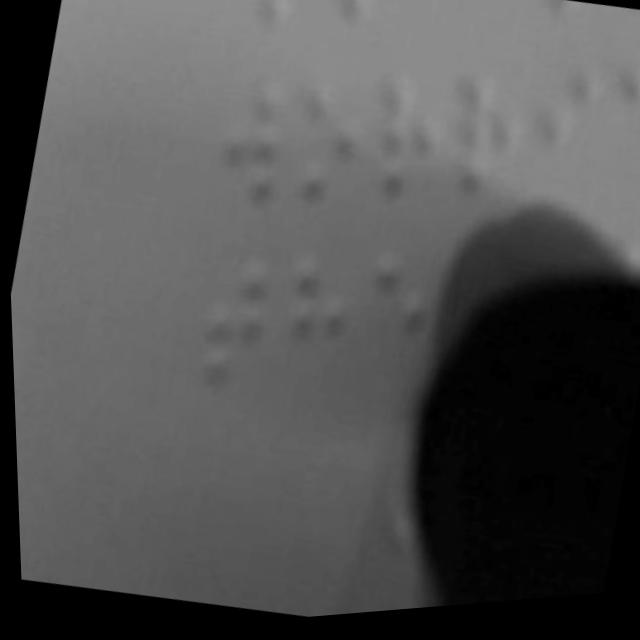braiile: (272, 58, 387, 234), (339, 237, 452, 410), (259, 244, 367, 418), (182, 235, 288, 411), (356, 58, 464, 229), (434, 59, 545, 223), (203, 64, 309, 229), (514, 61, 615, 218), (591, 64, 640, 228)
